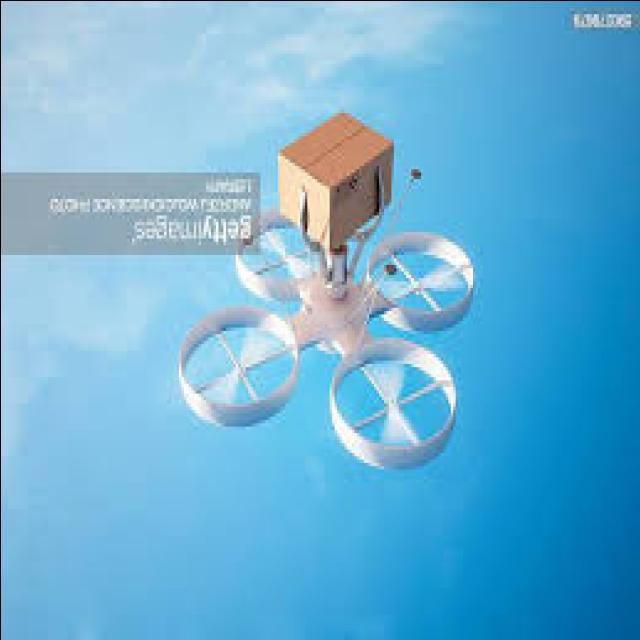drone: (170, 202, 498, 480)
